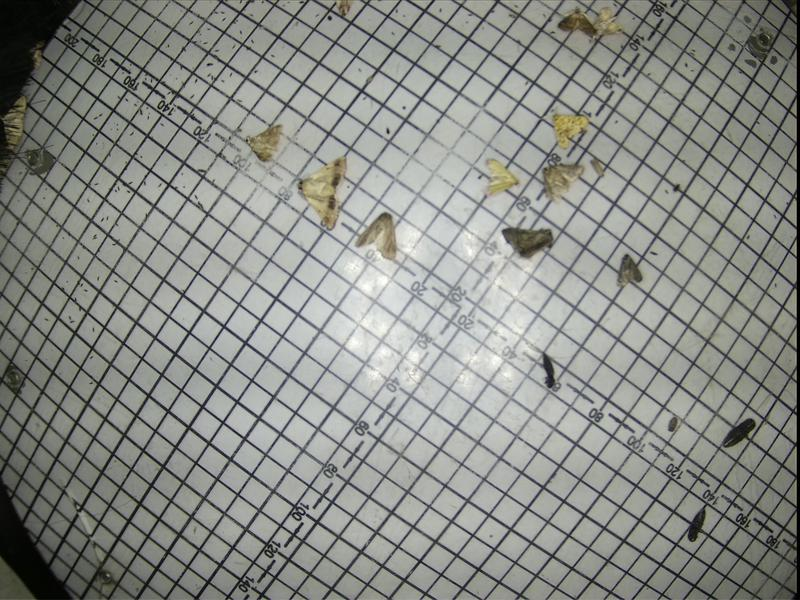Agriotes fuscicollis Miwa: (721, 412, 755, 450), (684, 505, 706, 541), (538, 351, 557, 389)
Athetis lepigone: (615, 252, 644, 289)
Bollworm: (295, 155, 347, 230)
Meadow borer: (241, 123, 283, 163), (551, 5, 597, 39), (589, 2, 623, 37)
